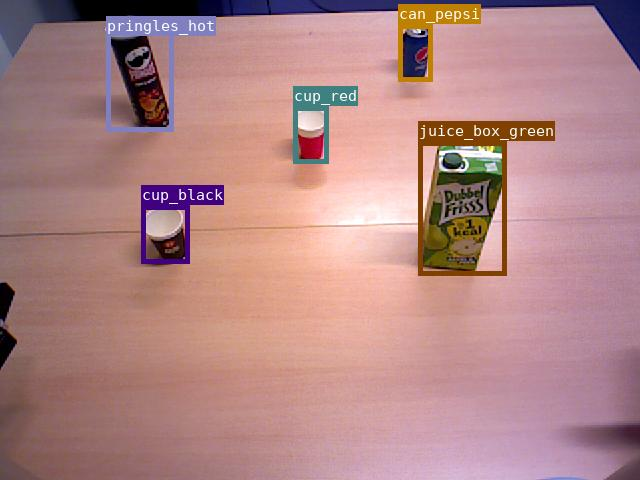can_pepsi: (398, 24, 432, 81)
cup_black: (141, 205, 189, 263)
cup_red: (293, 106, 328, 163)
juice_box_green: (418, 141, 506, 275)
pringles_hot: (106, 16, 173, 131)
